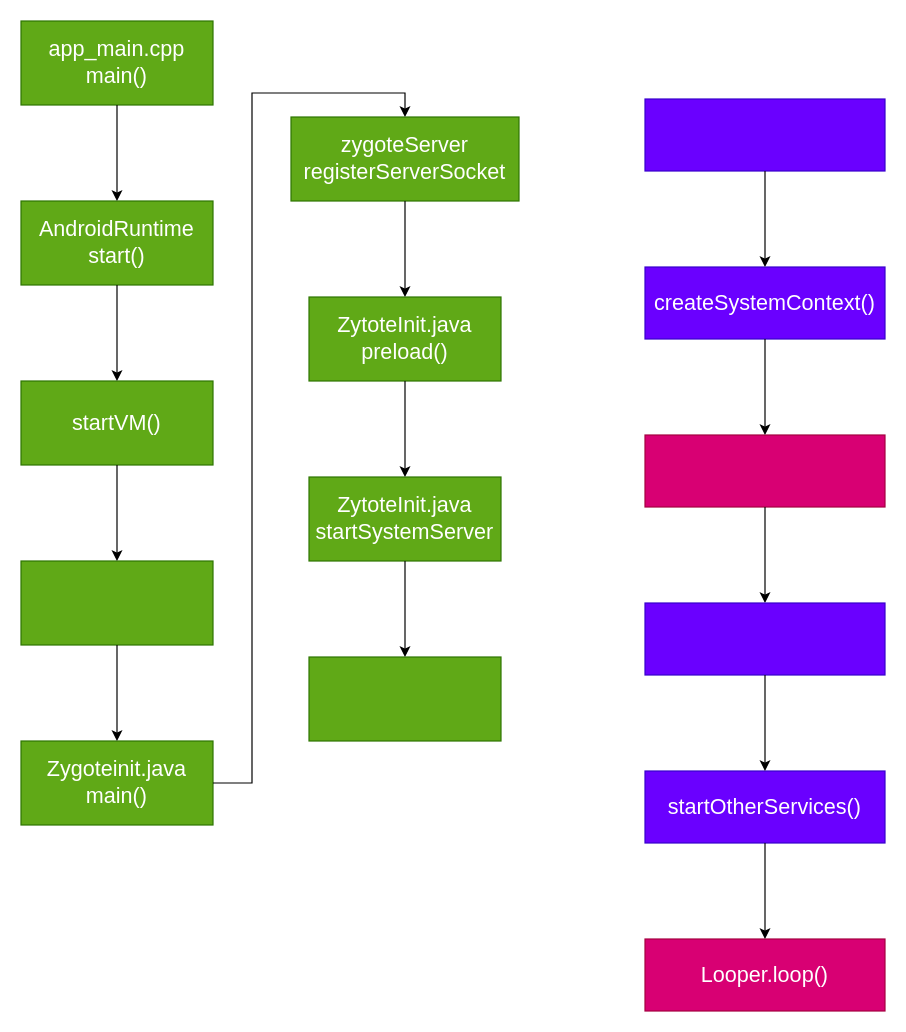
Image size: 906x1032. Some labels were removed from this diagram. Each missing label, with the box of its shape:
startBootstrapServices(): (644, 434, 885, 507)
startCoreServices(): (644, 602, 885, 675)
startReg(): (20, 560, 213, 645)
SystemServer.java main()->run(): (644, 98, 885, 171)
zygoteServer runSelectLoop(): (308, 656, 501, 741)
